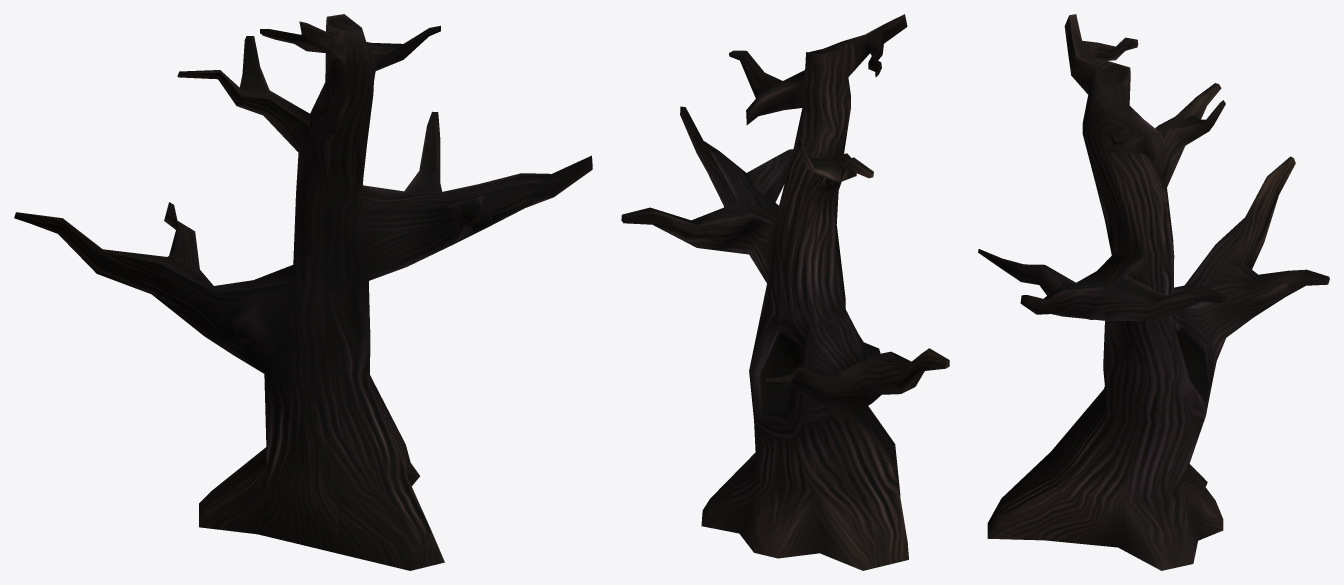
Rendered from spooky-TREE1.fbx.
3 renders of one model, left to right at view 1: azimuth 30°, elevation 25°; view 2: azimuth 150°, elevation 25°; view 3: azimuth 270°, elevation 25°, orthographic. The views are drawn at different scales.
Parts seen in each view (by area): view 1: spooky_tree1; view 2: spooky_tree1; view 3: spooky_tree1.
Boxes of the visible parts, box(x1,y1,x2,y2) form: spooky_tree1: box(14, 14, 592, 570); spooky_tree1: box(621, 14, 949, 570); spooky_tree1: box(978, 14, 1329, 570).
Bounding box in the file's own units: 490 × 575 × 380.
1 material, 1 textured.
